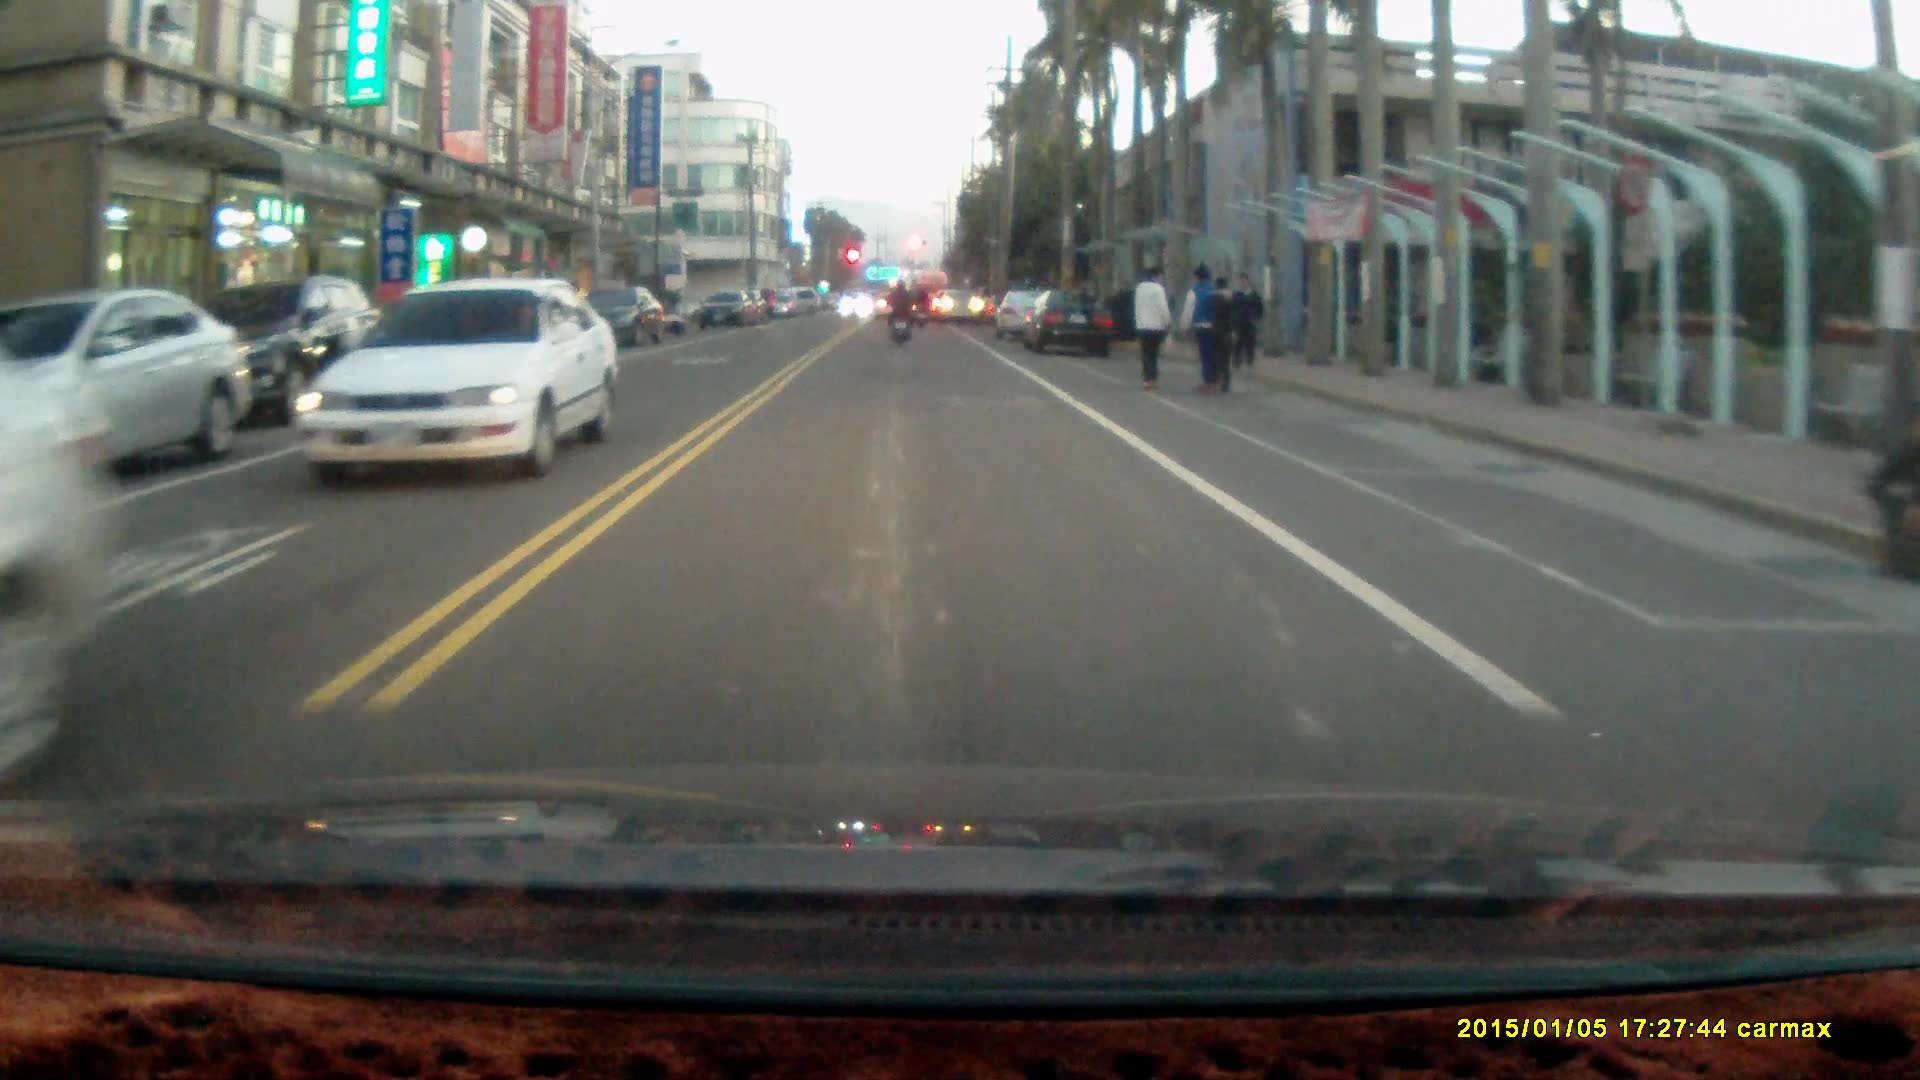pedestrian: (1859, 404, 1920, 588), (1129, 260, 1173, 395), (1177, 261, 1223, 395), (1202, 279, 1242, 402), (1229, 268, 1262, 370)
rider: (883, 277, 914, 349)
vehicle: (287, 280, 620, 476), (1, 370, 114, 807), (136, 278, 380, 424), (566, 284, 666, 349), (1027, 290, 1117, 358), (698, 291, 761, 334)
